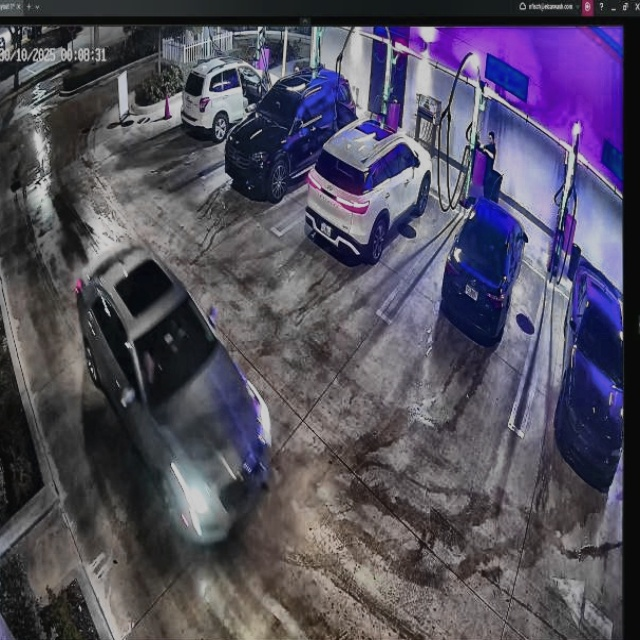Car: (70, 240, 268, 540), (302, 119, 431, 260), (223, 70, 354, 199), (442, 200, 525, 347)
